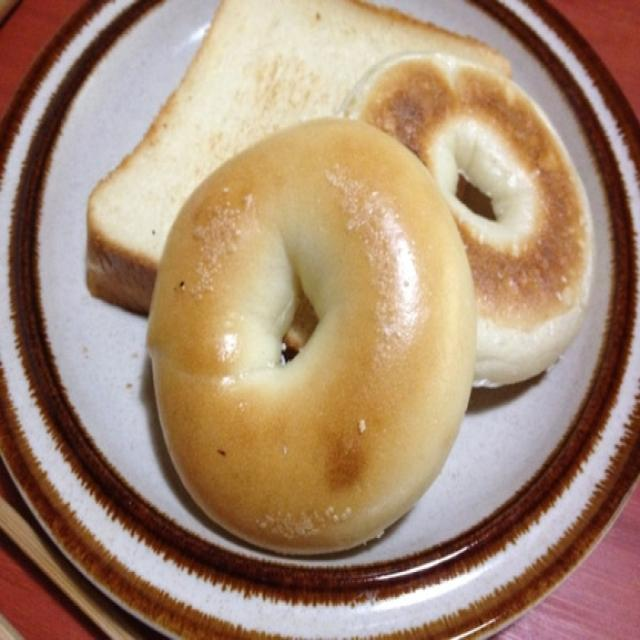面包点心: (5, 2, 636, 625)
